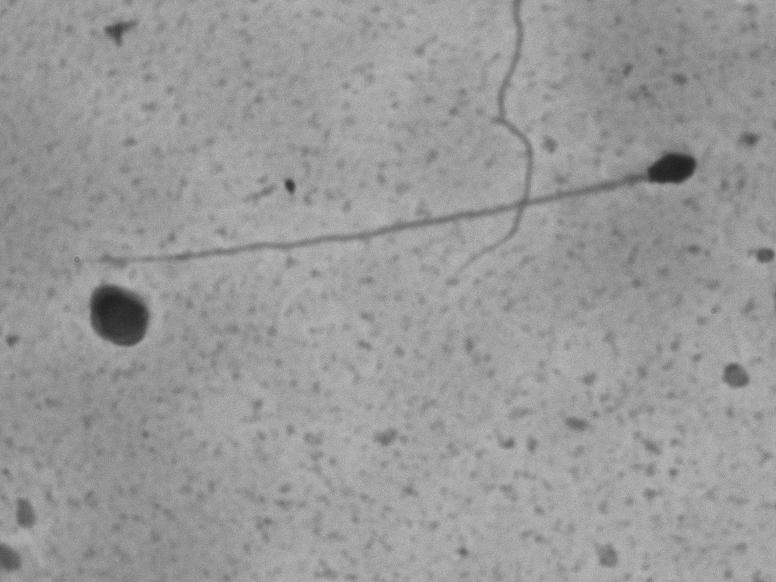Abnormal: (64, 141, 702, 265)
